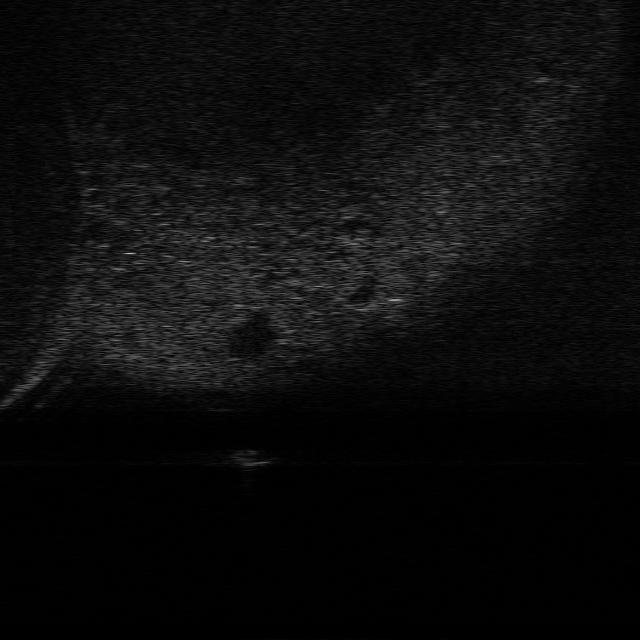cube: (225, 447, 275, 468)
